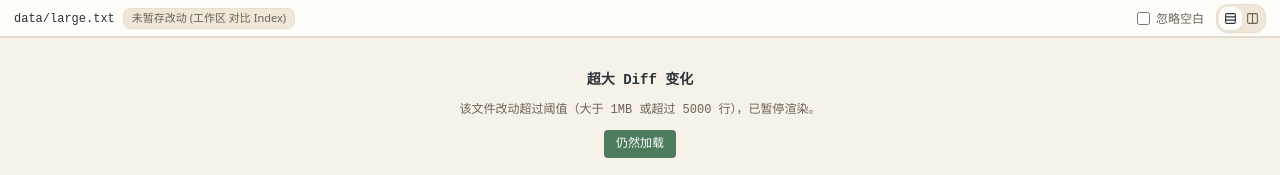
Test case: DiffViewer › AT-03d: displays large diff summary notice and loads diff upon clicking '仍然加载'
Expected: the text "超大 Diff 变化" is shown, [587,72,693,88]
Expected: the text "该文件改动超过阈值（大于 1MB 或超过 5000 行），已暂停渲染。" is shown, [459,103,821,117]
// Click "仍然加载" button
What coordinates should you click on to do the following:
click the button "仍然加载"
I would click on:
 (640, 144)
Its box is [604,130,676,158].
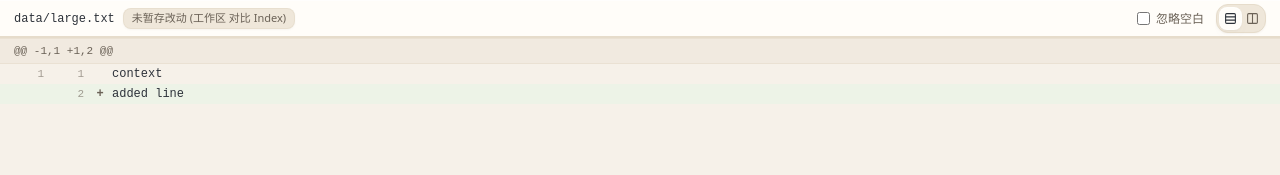
Now the text "超大 Diff 变化" is gone
Now the text "added line" is shown, box [112,87,184,101]
